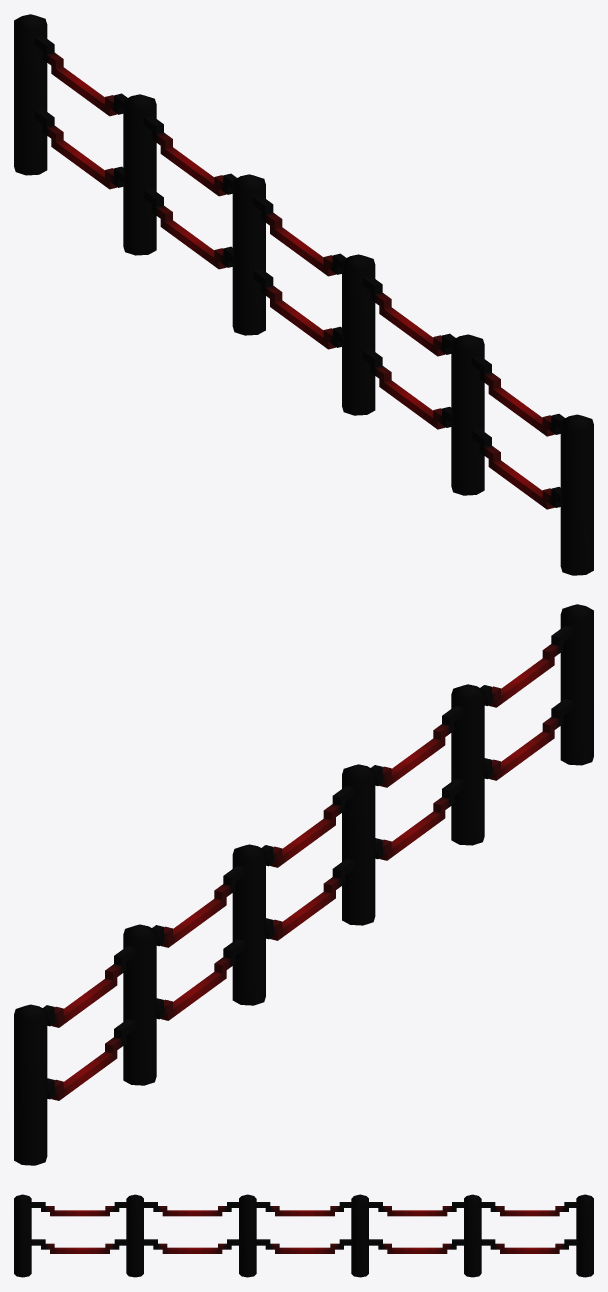
The model's file is Co_BPI_Fence_Rope_A_500.gltf.
3 renders of one model, top to bottom at view 1: azimuth 30°, elevation 25°; view 2: azimuth 150°, elevation 25°; view 3: azimuth 270°, elevation 25°, orthographic. The views are drawn at different scales.
Visible parts, largest first — view 1: Co_BPI_Fence_Rope_A_500; view 2: Co_BPI_Fence_Rope_A_500; view 3: Co_BPI_Fence_Rope_A_500.
Boxes of the visible parts, box(x1,y1,x2,y2) form: Co_BPI_Fence_Rope_A_500: box(14, 14, 593, 575); Co_BPI_Fence_Rope_A_500: box(14, 604, 593, 1165); Co_BPI_Fence_Rope_A_500: box(14, 1194, 593, 1277).
Size of the model in its own units: 0.24 by 1.19 by 7.87.
